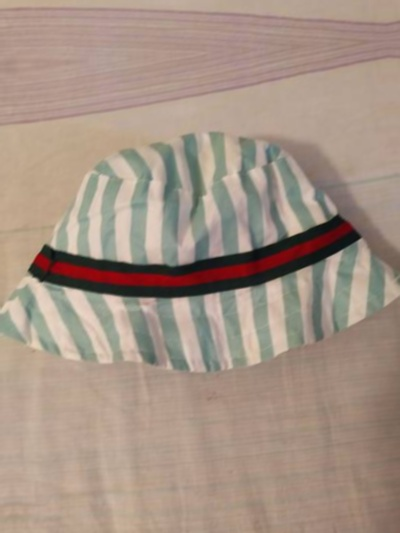Hat: (4, 124, 400, 392), (398, 97, 400, 365)
